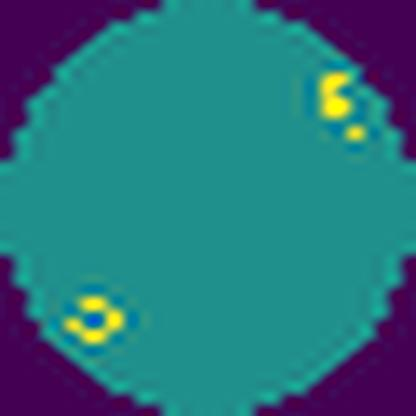Loc: (62, 291, 132, 349), (318, 70, 372, 145)
